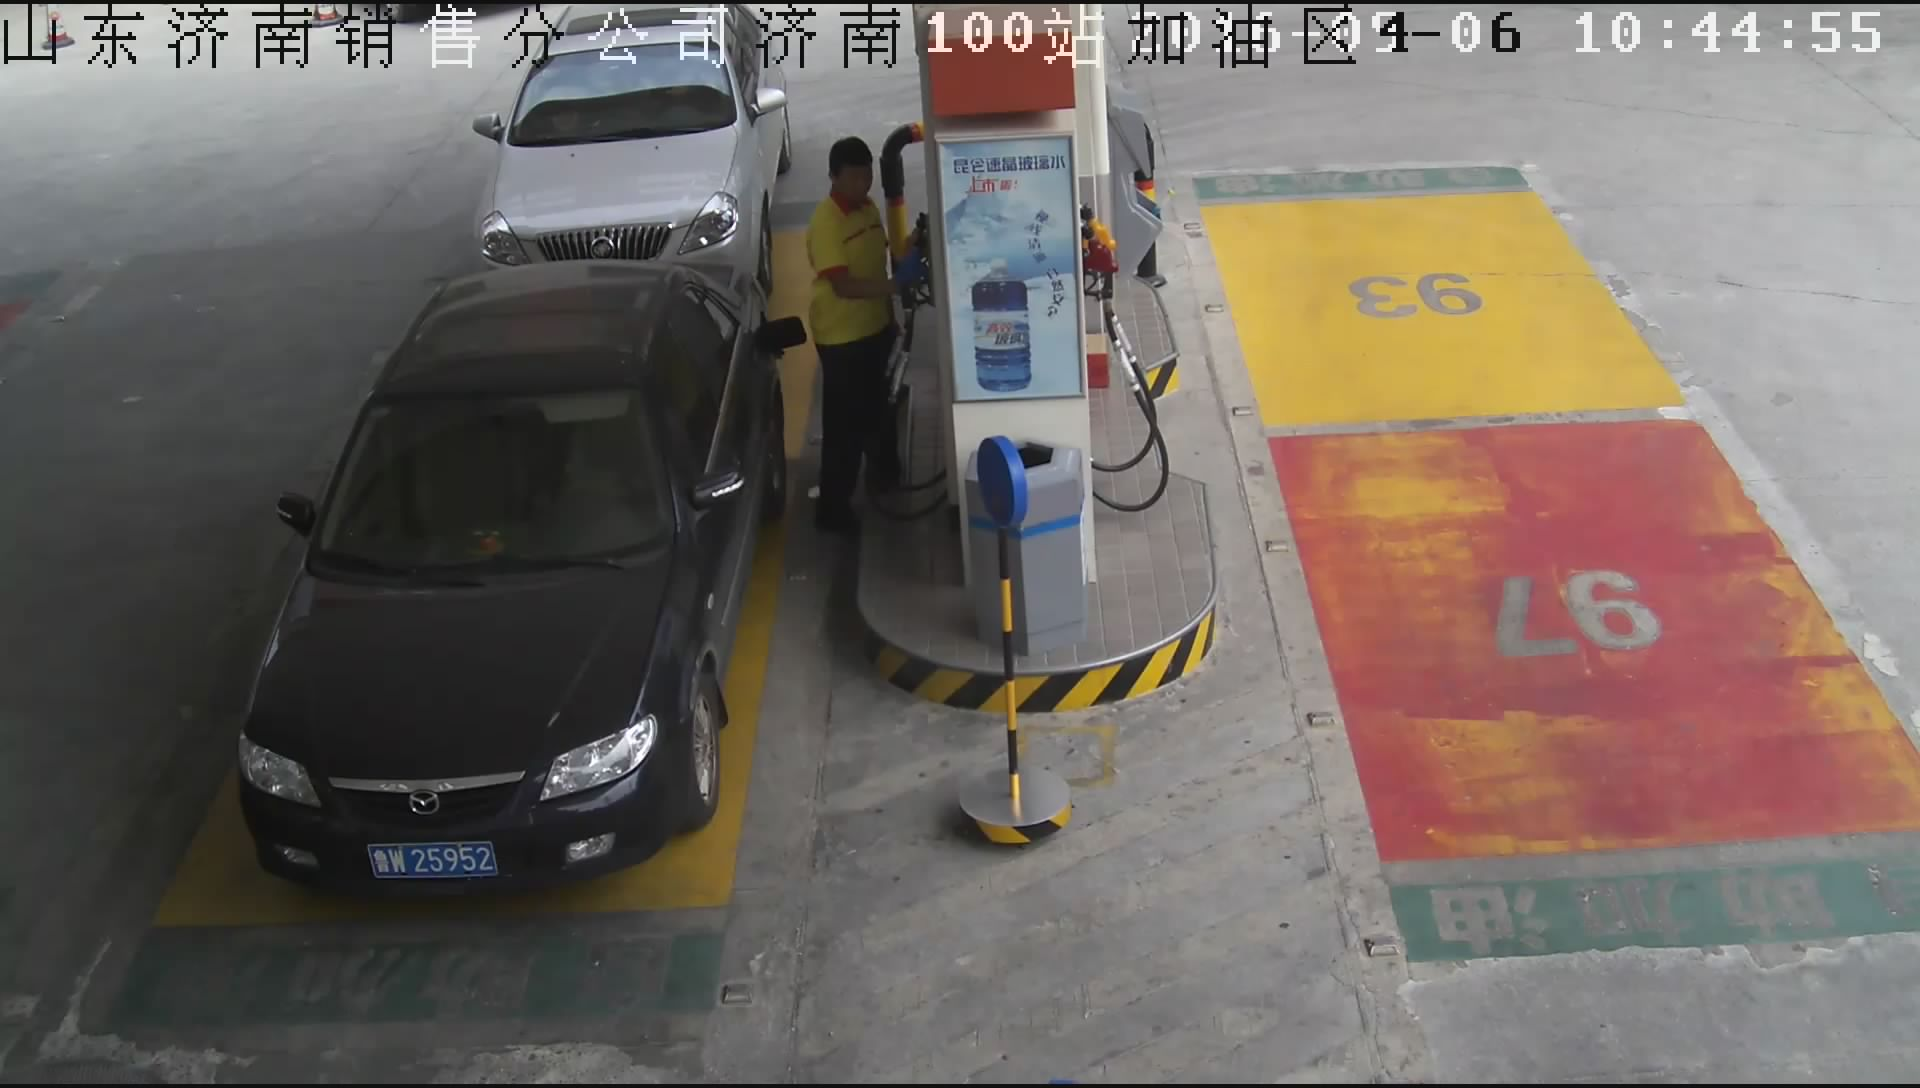blue: (365, 843, 501, 884)
